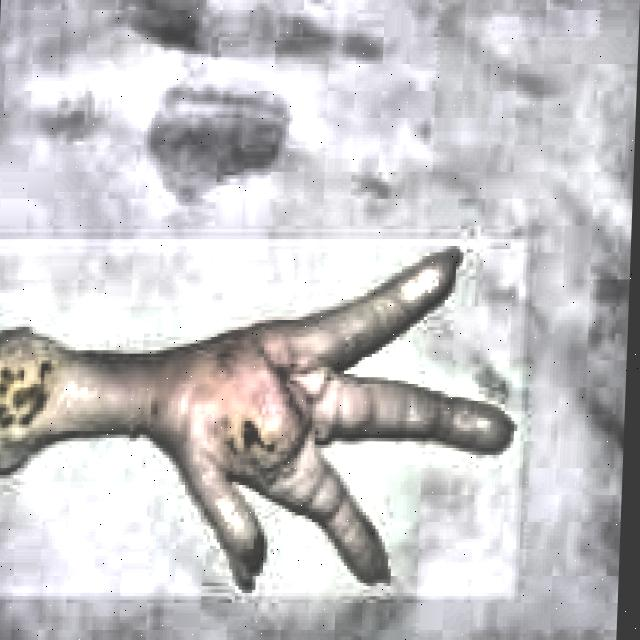Bumble foot: (0, 242, 529, 592), (0, 353, 58, 434)
